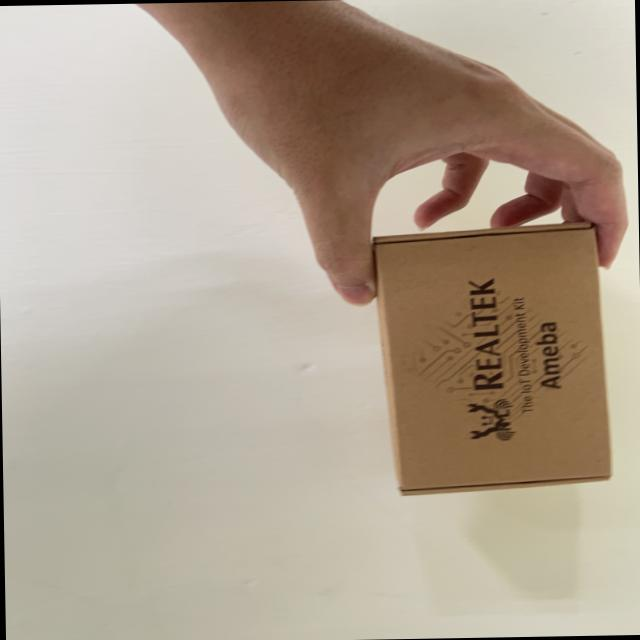box: (370, 207, 640, 501)
